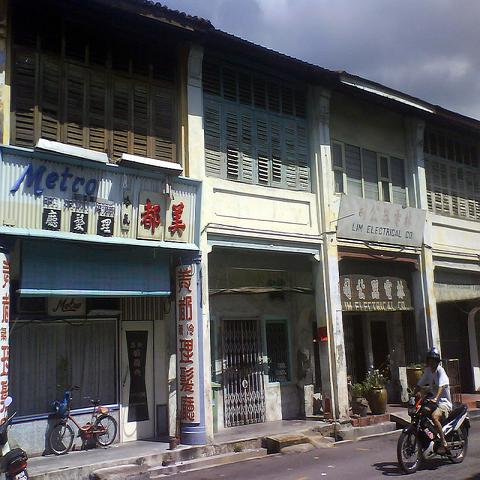motorcycle: (396, 387, 470, 474), (0, 395, 29, 480)
